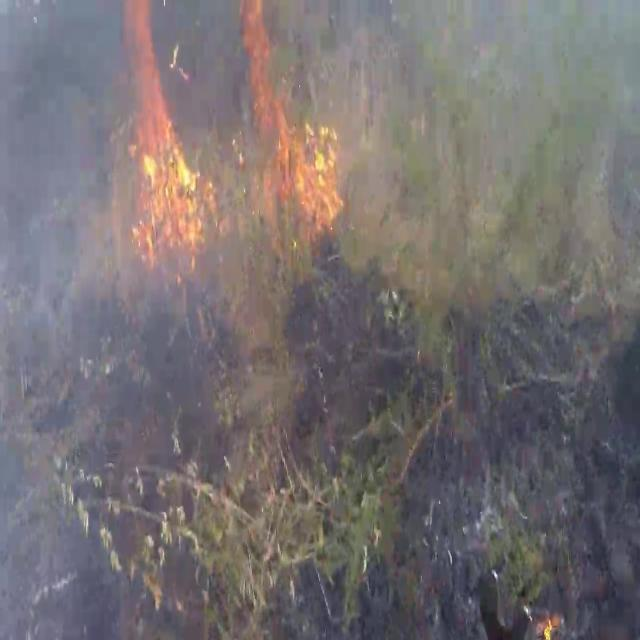Fire: (236, 3, 352, 242), (115, 6, 214, 268)
